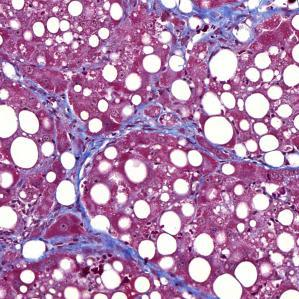fibrosis: (163, 8, 259, 55), (132, 103, 194, 138), (60, 237, 141, 263)
